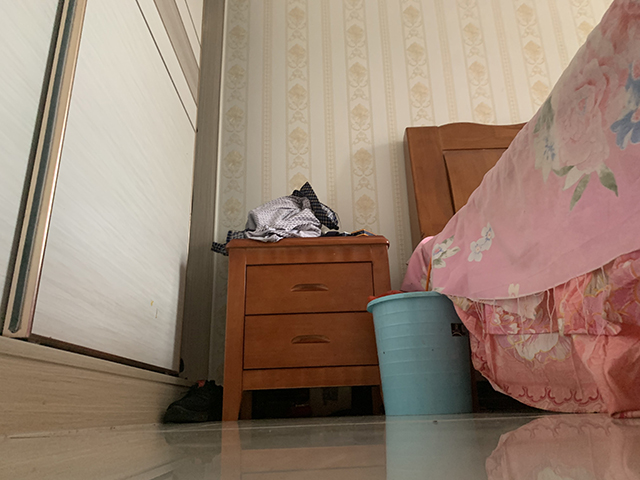bed: (400, 1, 640, 421)
cabinet: (1, 1, 227, 427), (222, 235, 393, 423)
trashcan: (365, 291, 476, 416)
